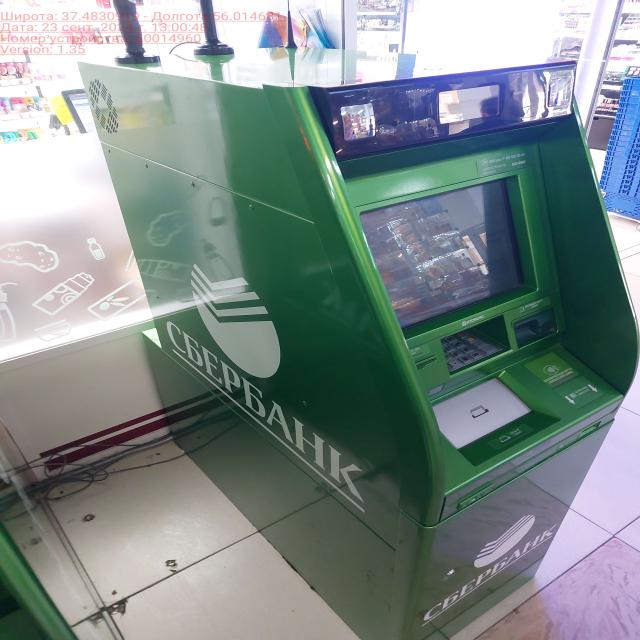bank: (75, 27, 640, 640)
